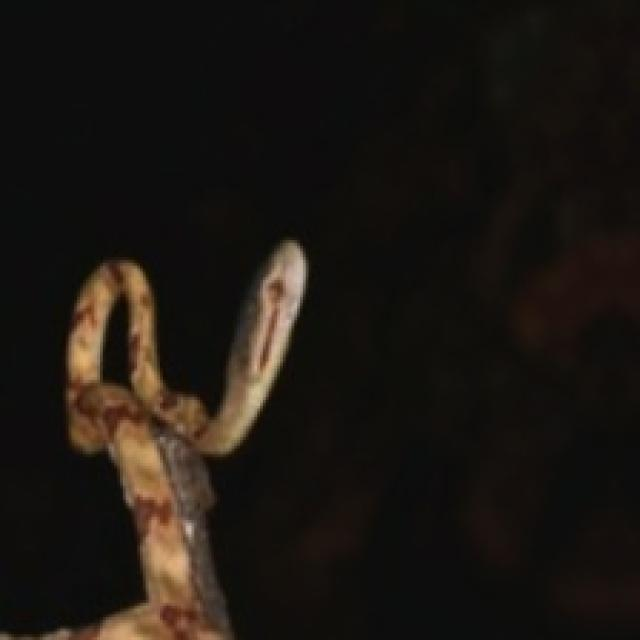dog-toothed cat snake: (0, 240, 306, 637)
